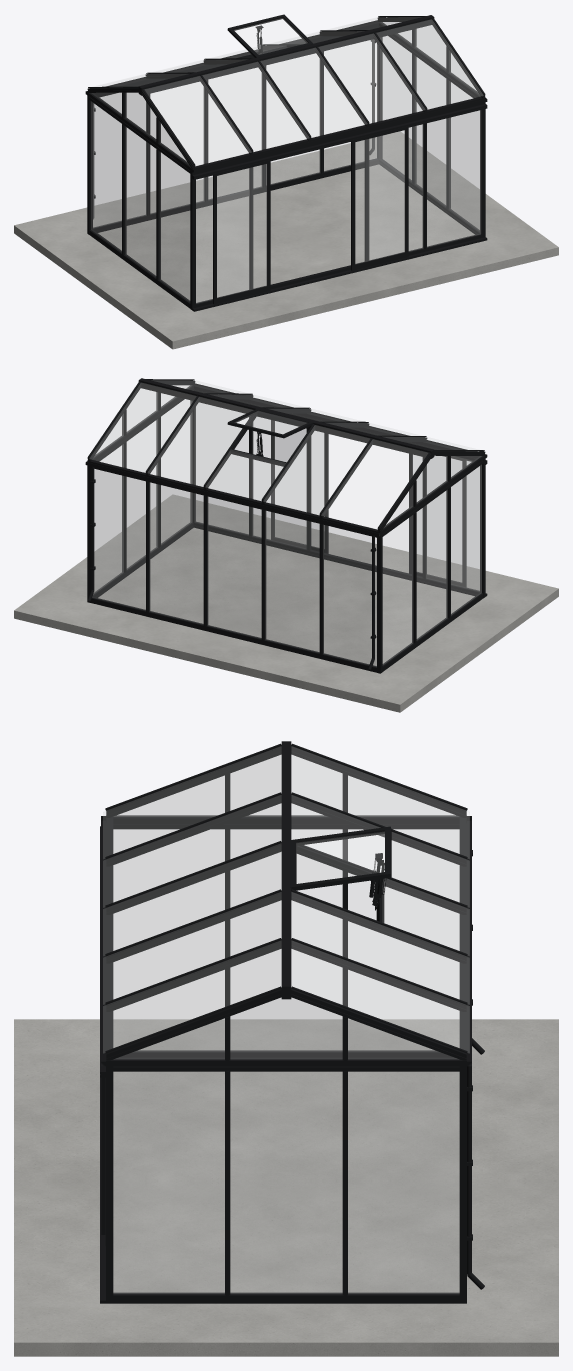
File: sg-rect-7-9-12-7.glb
The picture shows the model from 3 angles, top to bottom: view 1: azimuth 30°, elevation 25°; view 2: azimuth 150°, elevation 25°; view 3: azimuth 270°, elevation 25°; orthographic projection. The views are drawn at different scales.
Parts seen in each view (by area): view 1: scandiglas-rect-7-9-12-7; view 2: scandiglas-rect-7-9-12-7; view 3: scandiglas-rect-7-9-12-7.
Part boxes in pixels (x1,y1,x2,y2): scandiglas-rect-7-9-12-7: (14, 14, 558, 349); scandiglas-rect-7-9-12-7: (14, 378, 558, 712); scandiglas-rect-7-9-12-7: (14, 741, 558, 1356).
Size of the model in its own units: 5.11 by 2.54 by 3.64.
5 materials, 1 textured.
